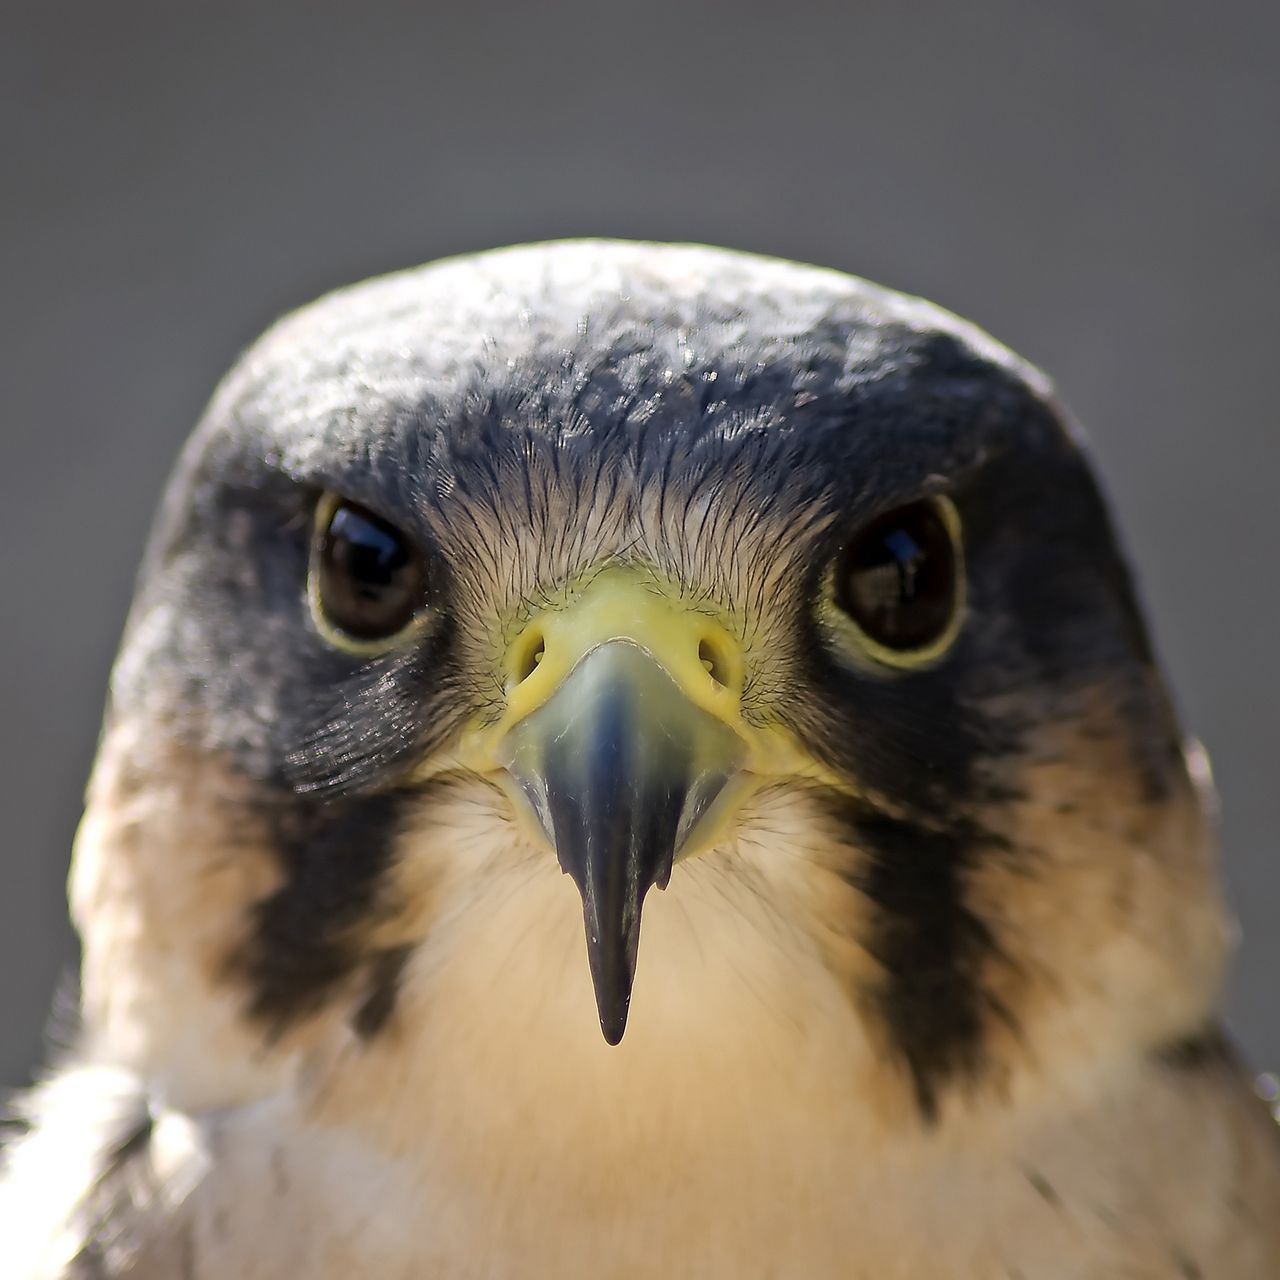Pengoyak Daging: (497, 652, 750, 1064)
